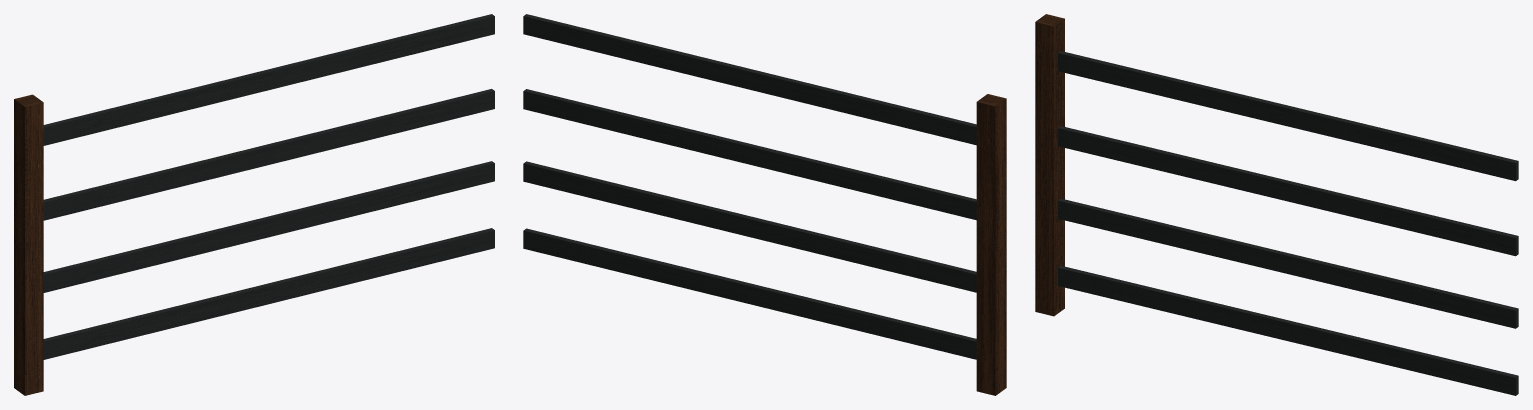
Rendered from Baranda.fbx.
The picture shows the model from 3 angles, left to right: view 1: azimuth 30°, elevation 25°; view 2: azimuth 150°, elevation 25°; view 3: azimuth 330°, elevation 25°; orthographic projection.
Parts seen in each view (by area): view 1: Cube.055, Cube.050, Cube.052, Cube.053, Cube.051; view 2: Cube.052, Cube.055, Cube.050, Cube.053, Cube.051; view 3: Cube.052, Cube.053, Cube.050, Cube.055, Cube.051.
Boxes of the visible parts, bbox=[...] form: Cube.055: bbox=[43, 161, 494, 292]; Cube.050: bbox=[43, 14, 494, 145]; Cube.052: bbox=[43, 89, 494, 220]; Cube.053: bbox=[43, 228, 494, 359]; Cube.051: bbox=[14, 94, 43, 395]; Cube.052: bbox=[523, 89, 976, 220]; Cube.055: bbox=[523, 161, 976, 292]; Cube.050: bbox=[523, 14, 976, 145]; Cube.053: bbox=[523, 228, 976, 359]; Cube.051: bbox=[976, 94, 1006, 395]; Cube.052: bbox=[1058, 126, 1518, 256]; Cube.053: bbox=[1058, 265, 1518, 395]; Cube.050: bbox=[1058, 51, 1518, 181]; Cube.055: bbox=[1058, 198, 1518, 328]; Cube.051: bbox=[1035, 14, 1064, 316].
Size of the model in its own units: 203 by 118 by 8.06.
Materials: 2 (2 with a texture image).
